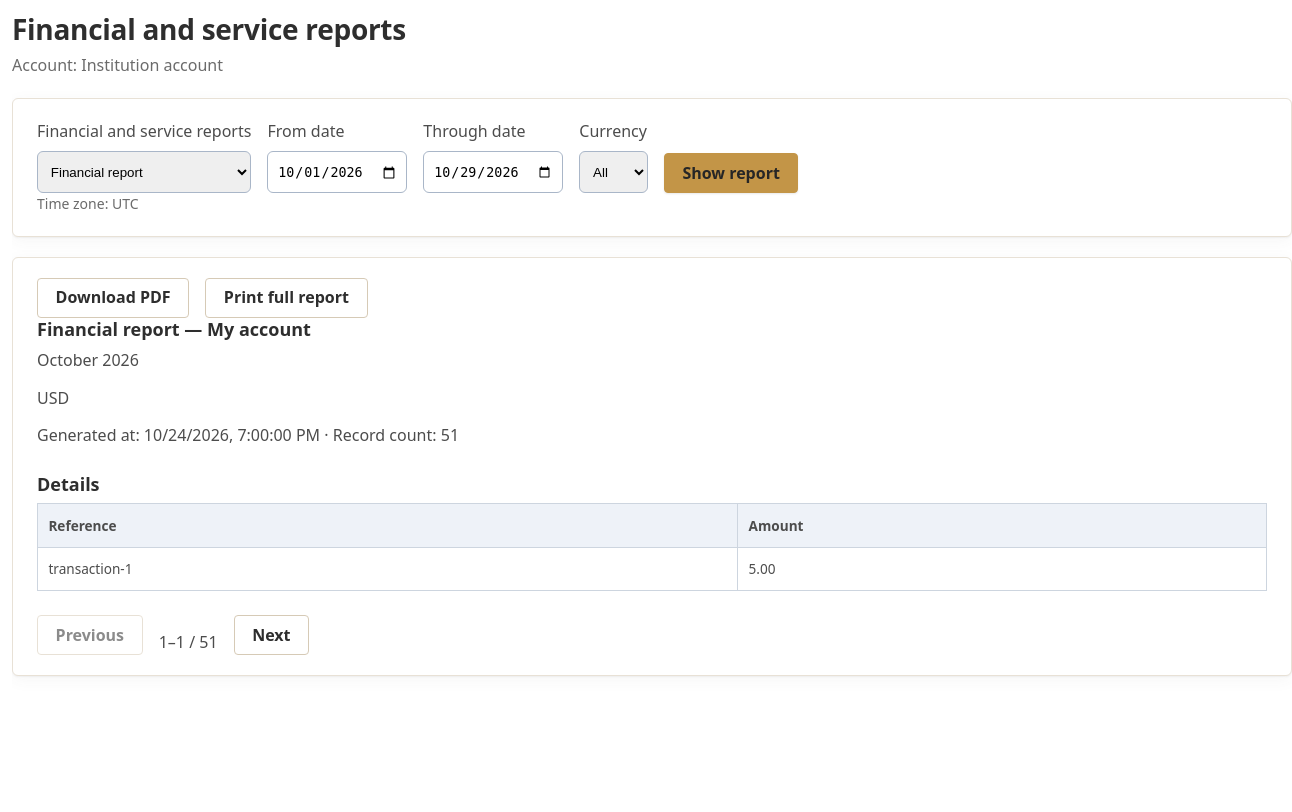
Test: account report exports › reports export limits explicitly instead of downloading an incomplete report
Expected: the text "transaction-1" is shown, [48,559,132,578]
Click the button "Download PDF" at [113, 298], box [37,278,189,318]
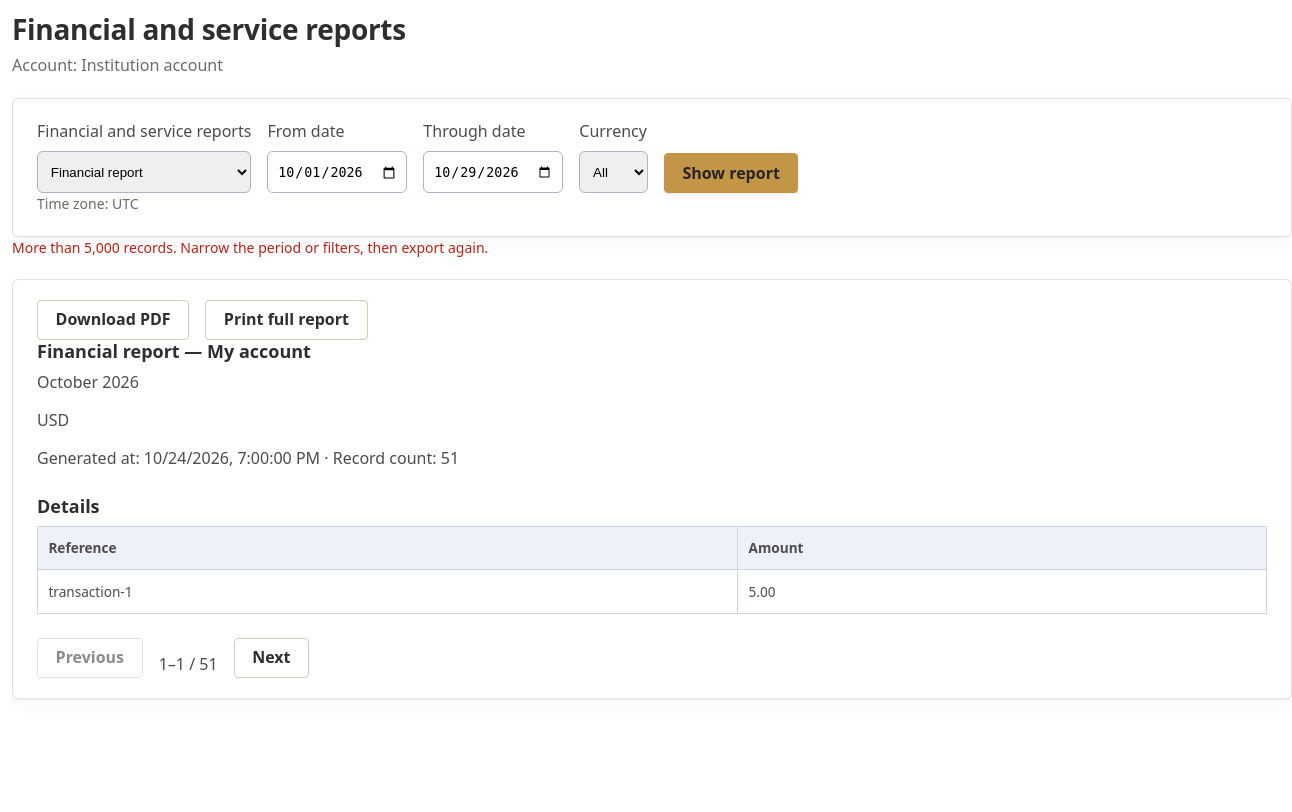
Now the message shows "5,000", box [12,238,488,257]
